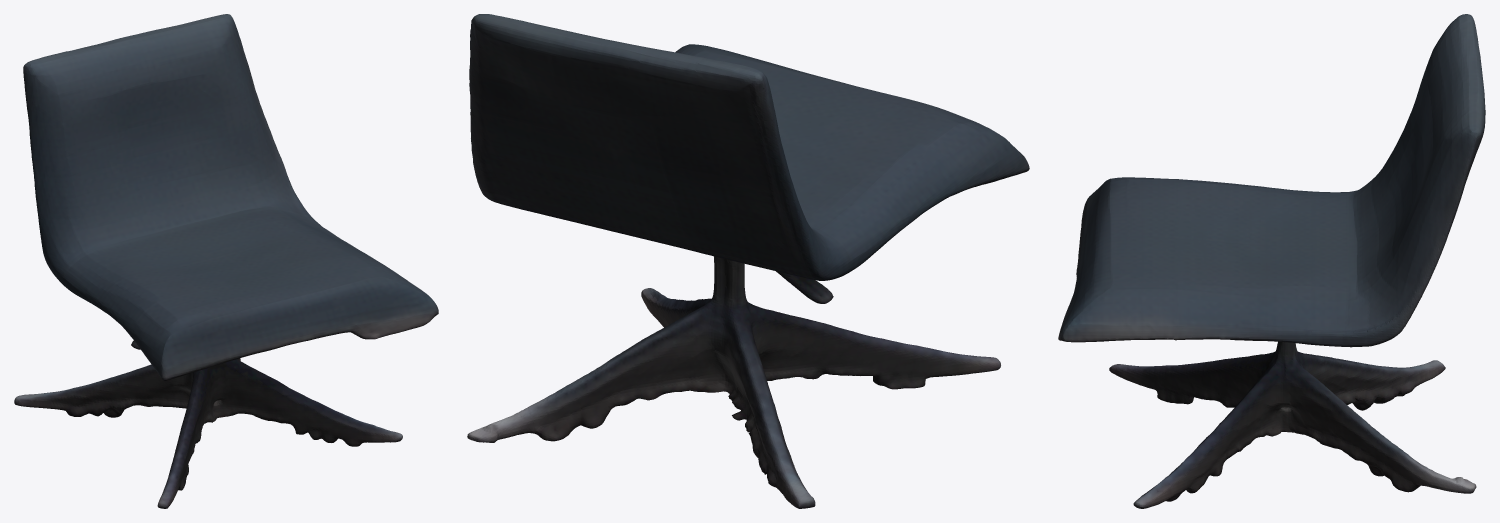
The model's file is trellis.glb.
The picture shows the model from 3 angles, left to right: view 1: azimuth 30°, elevation 25°; view 2: azimuth 150°, elevation 25°; view 3: azimuth 270°, elevation 25°; orthographic projection. The views are drawn at different scales.
Parts seen in each view (by area): view 1: world; view 2: world; view 3: world.
Part boxes in pixels (x1=…): world: x1=14, y1=14, x2=438, y2=508; world: x1=467, y1=14, x2=1029, y2=508; world: x1=1058, y1=14, x2=1485, y2=508.
Bounding box in the file's own units: 0.8187 × 0.9828 × 1.
